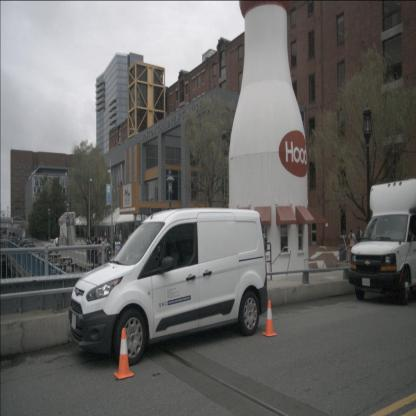human-pedestrian-adult: (348, 229, 358, 261), (356, 226, 363, 261), (86, 236, 92, 265), (97, 233, 103, 261), (92, 236, 98, 264), (103, 232, 108, 262), (19, 236, 24, 260), (113, 232, 118, 255), (55, 238, 60, 260), (119, 230, 122, 254)
movable_object-trafficcone: (114, 327, 134, 380), (262, 300, 277, 337)
vehicle-car: (68, 208, 268, 366), (348, 178, 415, 306)
